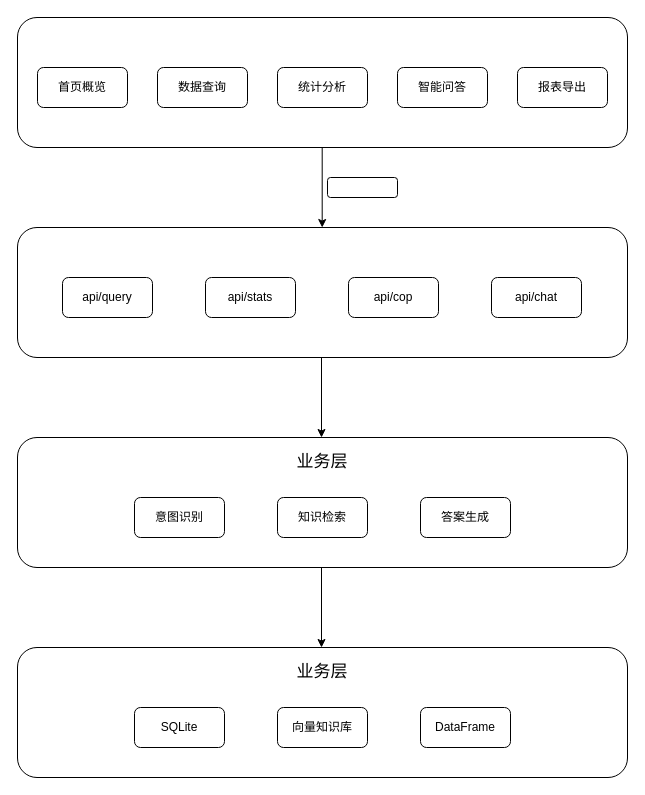
Image size: 645x795. Some labels were removed from this diagram. The box of each missing label's shape, as (x1, y1, x2, y2) in pixels:
RESTful API: (326, 176, 398, 198)
展示 层: (16, 16, 628, 148)
服务层: (16, 226, 628, 358)
